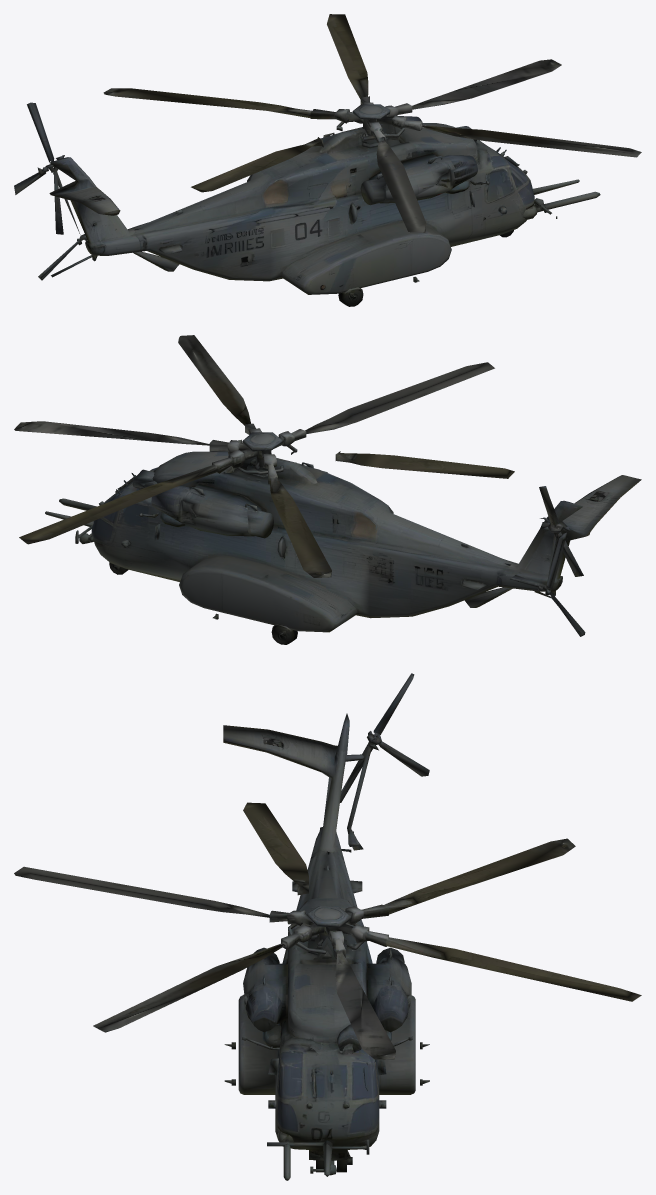
File: 019e5dfb-ae43-7019-9ac8-73f32d0c961b.glb
3 views of the same model, one above another, from view 1: azimuth 30°, elevation 25°; view 2: azimuth 150°, elevation 25°; view 3: azimuth 270°, elevation 25° (orthographic). The views are drawn at different scales.
Parts seen in each view (by area): view 1: tripo_node_e5140330-4018-4b22-93fd-aeac0b57a73a; view 2: tripo_node_e5140330-4018-4b22-93fd-aeac0b57a73a; view 3: tripo_node_e5140330-4018-4b22-93fd-aeac0b57a73a.
Boxes of the visible parts, bbox=[...] form: tripo_node_e5140330-4018-4b22-93fd-aeac0b57a73a: bbox=[14, 14, 641, 306]; tripo_node_e5140330-4018-4b22-93fd-aeac0b57a73a: bbox=[14, 335, 641, 644]; tripo_node_e5140330-4018-4b22-93fd-aeac0b57a73a: bbox=[14, 673, 641, 1180].
Size of the model in its own units: 0.998 by 0.3809 by 0.873.
1 material, 1 textured.
